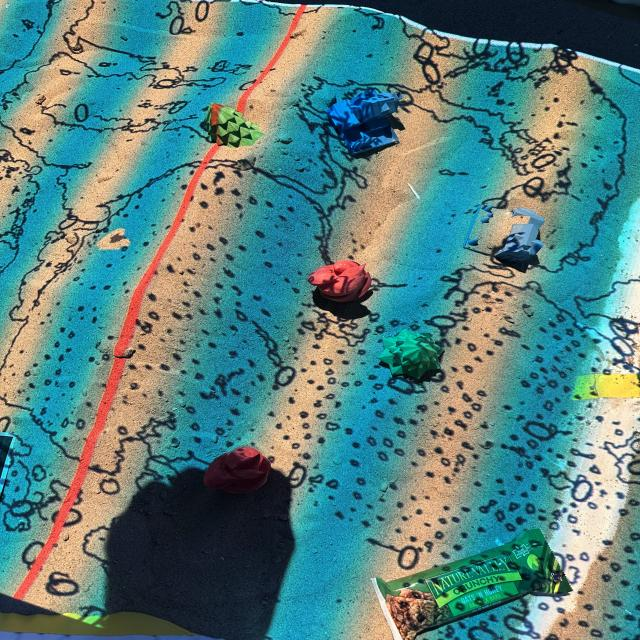fire: (201, 446, 277, 498), (311, 259, 371, 303)
house: (327, 88, 401, 156), (474, 205, 546, 268)
tree: (385, 326, 442, 376), (205, 103, 261, 147)
